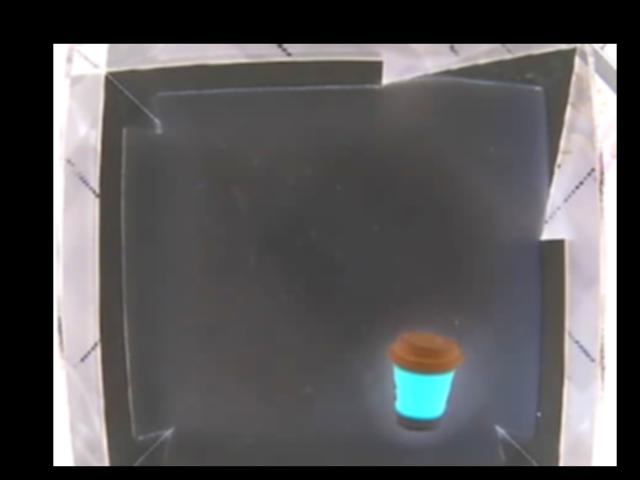Cup: (388, 329, 462, 433)
